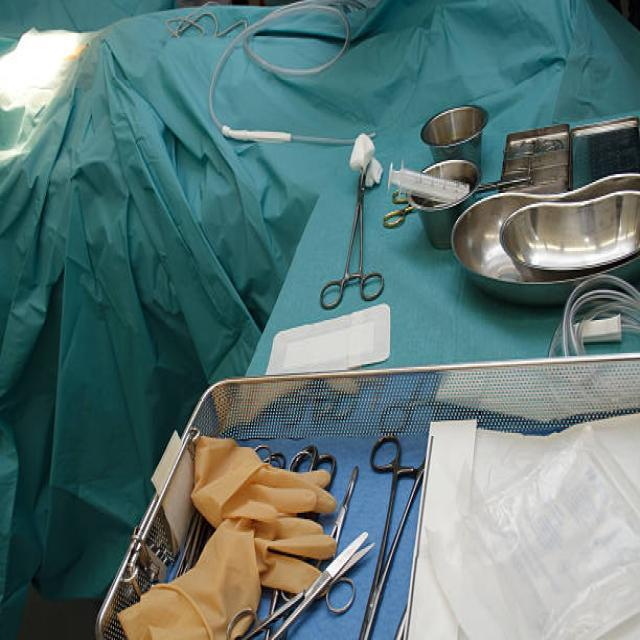tools_table: (111, 114, 640, 639)
